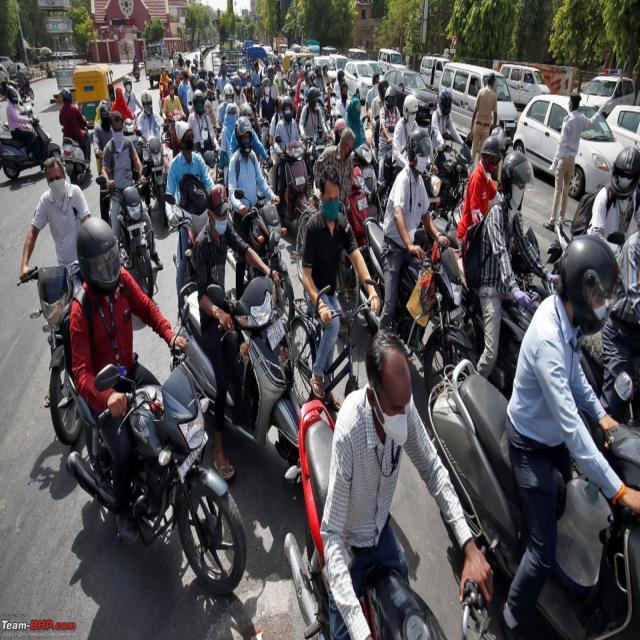Vehicles: (432, 335, 640, 640), (88, 363, 266, 626), (162, 262, 316, 463), (360, 218, 474, 400), (521, 88, 616, 206), (34, 249, 87, 456), (435, 67, 518, 156), (110, 181, 157, 289), (0, 122, 64, 188), (273, 135, 314, 216), (142, 136, 176, 231), (500, 57, 550, 112)
